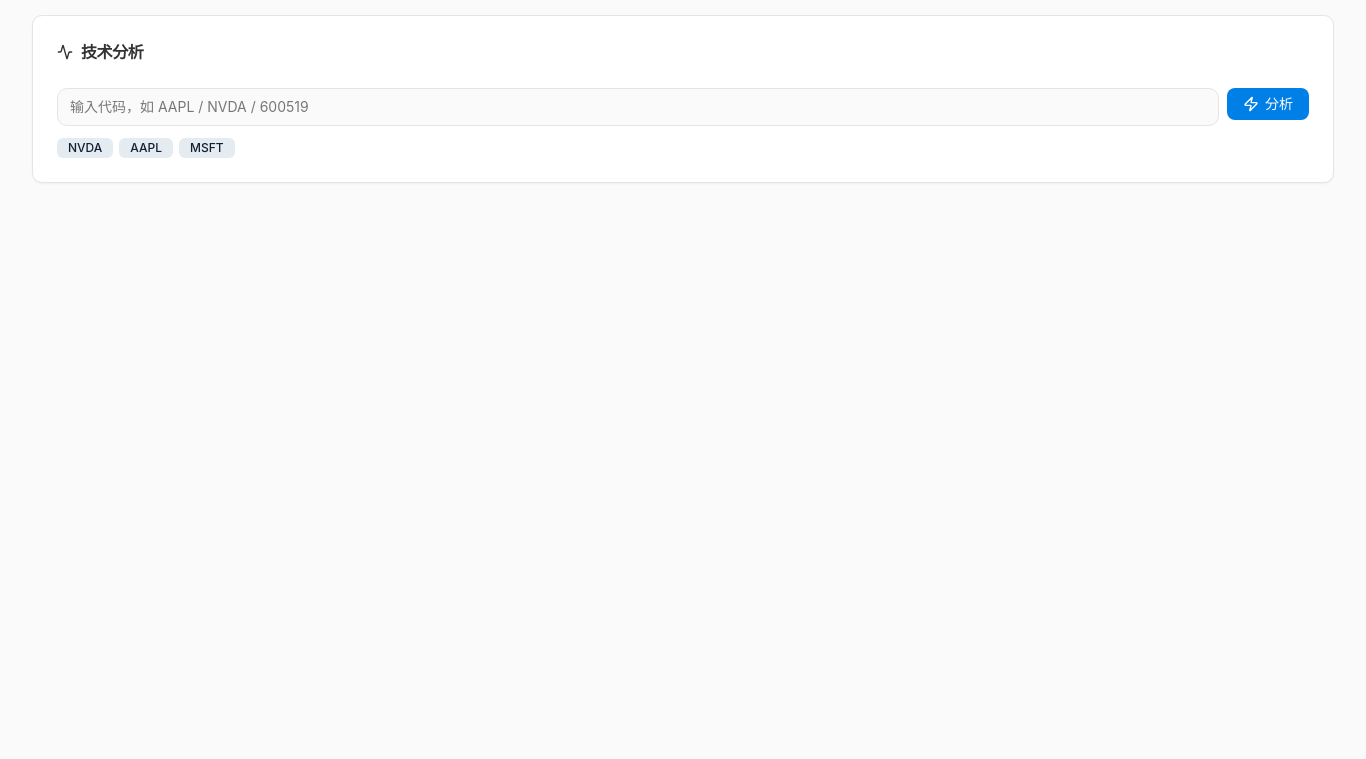
Test case: TechAnalysisPage › 输入代码点击分析后渲染指标卡/买点/回测/实时快照
Step 1. Type "AAPL" into the field with placeholder "输入代码，如 AAPL / NVDA / 600519" → (638, 107), box [57,88,1219,126]
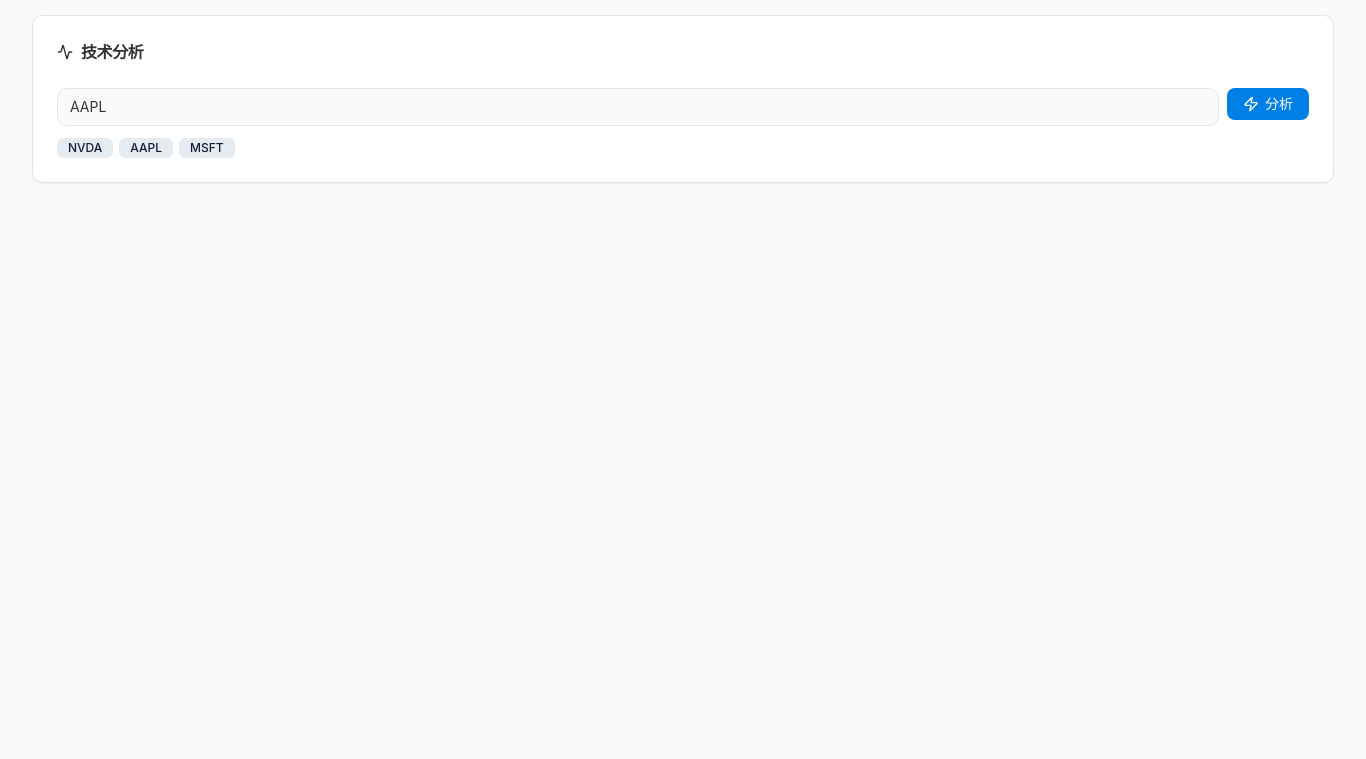
Step 2. Click the button "分析" → (1268, 104), box [1227,88,1309,120]
(page scrolled)
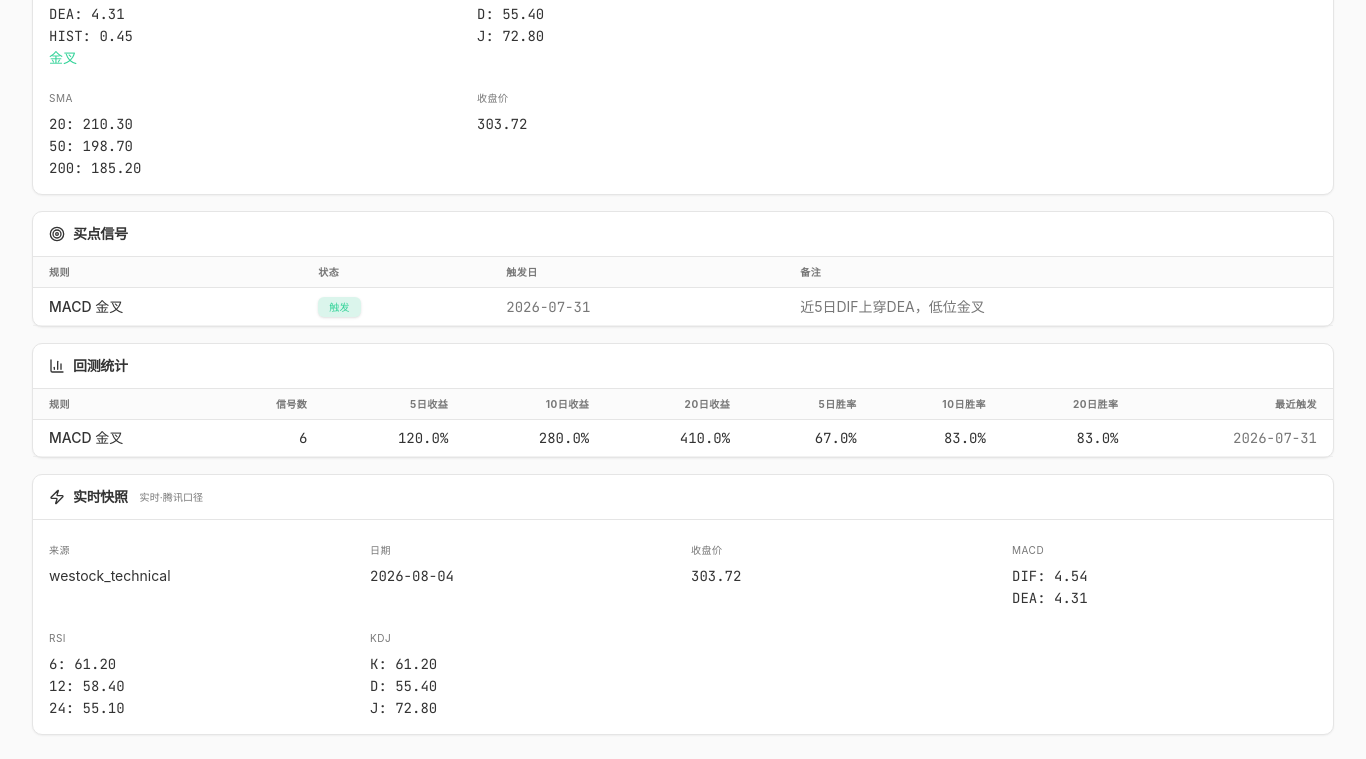
Now the text "实时·腾讯口径" is shown, box [140,490,203,504]
